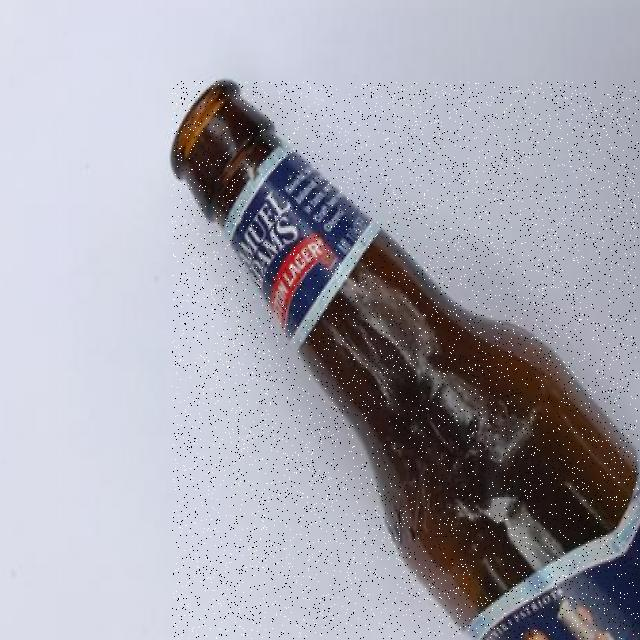glass: (172, 82, 640, 640)
